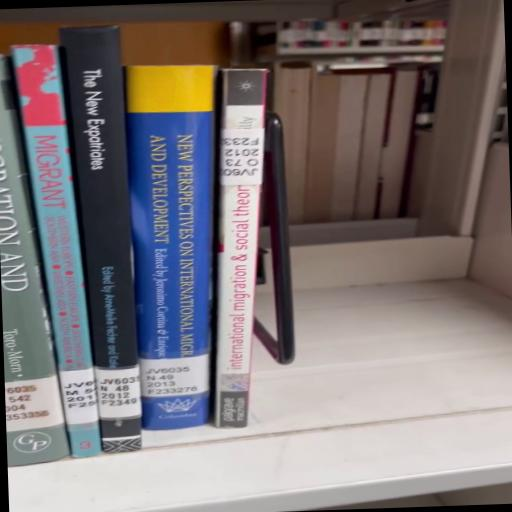book: (12, 45, 101, 457), (61, 27, 142, 453), (126, 66, 217, 431), (1, 56, 70, 467)
reverse: (215, 69, 268, 428)
